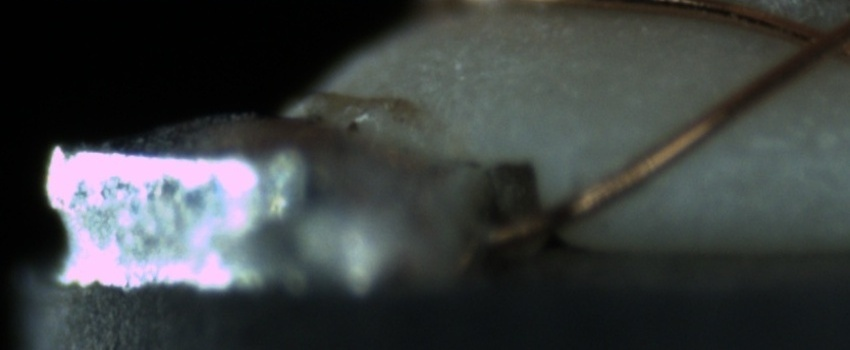CL: (783, 15, 846, 70)
